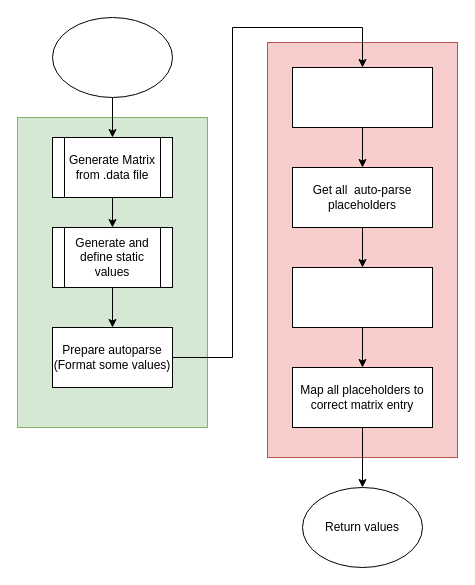
The diagram is 475 pixels wide and 585 high, and some of its shapes have lost their labels. Each missing label, with the centre of its shape:
"Detect errors with placeholders and log" goes at point (362, 297).
"Generate Replacement dict based on static values" goes at point (362, 97).
"Start" goes at point (112, 57).
